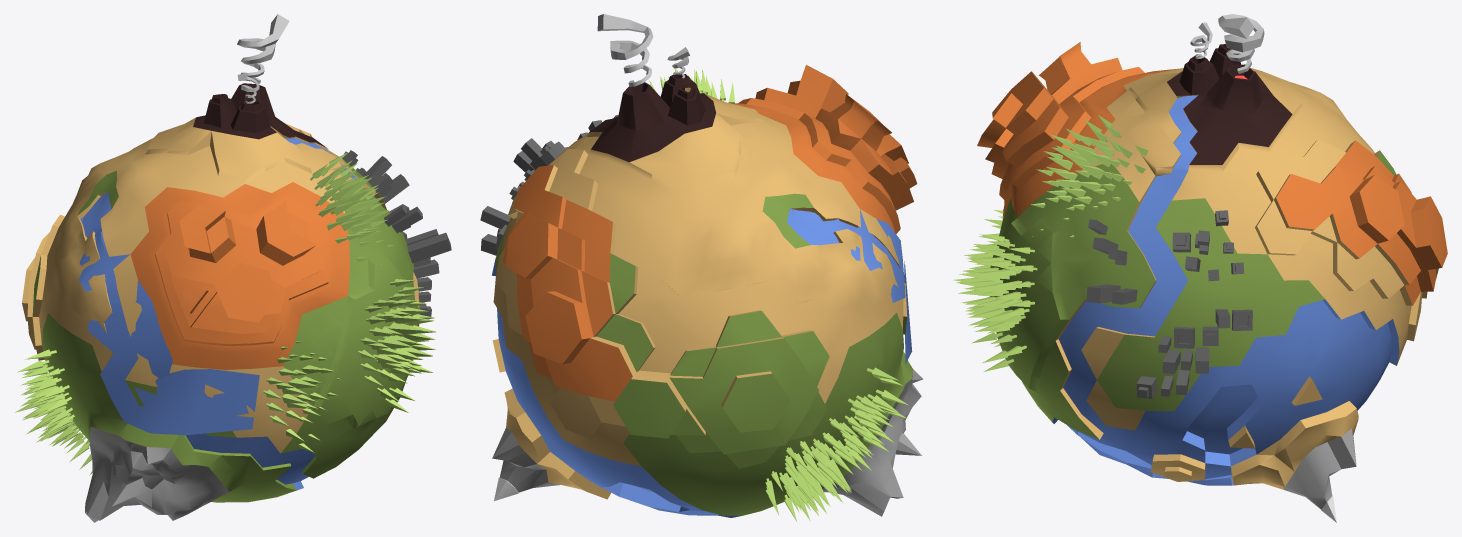
The picture shows the model from 3 angles, left to right: view 1: azimuth 30°, elevation 25°; view 2: azimuth 150°, elevation 25°; view 3: azimuth 270°, elevation 25°; orthographic projection. The views are drawn at different scales.
Parts seen in each view (by area): view 1: Rocky Mountains, Ground, Grass, Water 1, Forest, Mountains, City, Volcano, Forest 2, Water, Forest 1, Smoke; view 2: Ground, Grass, Rocky Mountains, Forest, Volcano, Water, Mountains, Water 1, City, Smoke, Forest 2; view 3: Ground, Grass, Water, Rocky Mountains, Volcano, City, Forest, Forest 2, Mountains, Smoke.
Boxes of the visible parts, box(x1,y1,x2,y2) form: Rocky Mountains: box(130, 182, 350, 369); Ground: box(22, 117, 419, 453); Grass: box(32, 158, 418, 502); Water 1: box(78, 192, 259, 435); Forest: box(15, 279, 436, 475); Mountains: box(85, 426, 229, 522); City: box(342, 150, 451, 316); Volcano: box(193, 83, 326, 147); Forest 2: box(310, 152, 393, 277); Water: box(80, 137, 380, 489); Forest 1: box(263, 341, 340, 452); Smoke: box(237, 14, 289, 103); Ground: box(492, 87, 907, 499); Grass: box(495, 193, 912, 515); Rocky Mountains: box(503, 65, 917, 401); Forest: box(765, 367, 908, 521); Volcano: box(589, 74, 715, 162); Water: box(492, 210, 843, 517); Mountains: box(492, 369, 923, 516); Water 1: box(787, 208, 912, 364); City: box(480, 115, 617, 255); Smoke: box(597, 14, 689, 86); Forest 2: box(649, 68, 734, 103); Ground: box(1055, 67, 1438, 489); Grass: box(990, 150, 1396, 439); Water: box(1052, 95, 1399, 485); Rocky Mountains: box(977, 42, 1447, 305); Volcano: box(1167, 44, 1292, 164); City: box(1086, 210, 1252, 398); Forest: box(953, 234, 1037, 371); Forest 2: box(1031, 115, 1148, 237); Mountains: box(1283, 429, 1356, 509); Smoke: box(1190, 14, 1264, 73).
Size of the model in its own units: 0.172 by 0.1857 by 0.1709.
